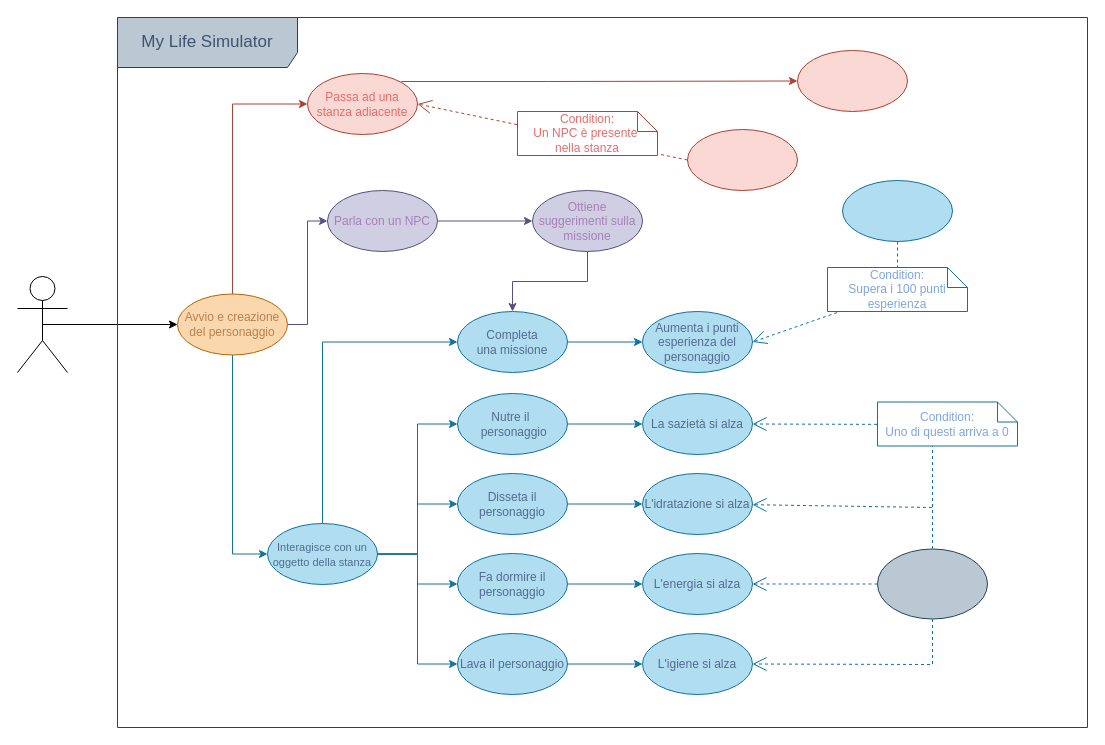
Image size: 1105x745. Some labels were removed from this diagram. The box of each missing label's shape, as (x1, y1, x2, y2) in pixels:
Aumenta il livello e sblocca nuove stanze: (842, 180, 952, 242)
GAME OVER: (876, 548, 988, 619)
Ottiene una missione: (686, 128, 798, 190)
Sblocca nuovi oggetti e potenziali NPC: (796, 50, 908, 112)
Utente: (16, 276, 68, 372)
